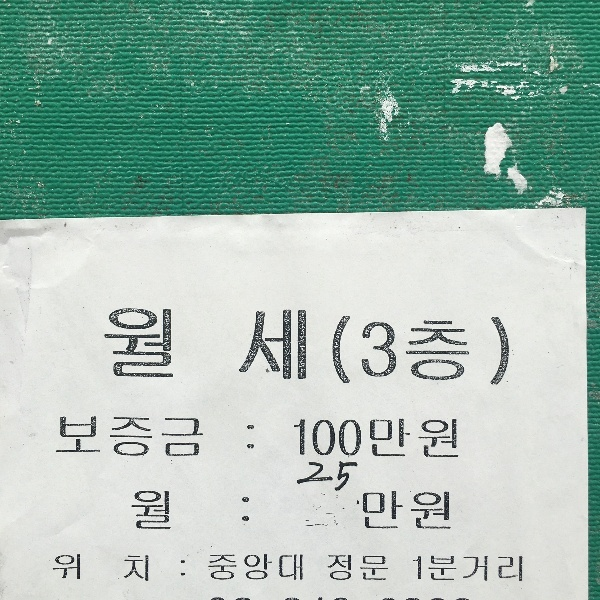text: (305, 298, 321, 399), (97, 298, 112, 399), (113, 298, 128, 399), (129, 298, 144, 399), (145, 298, 160, 399), (161, 298, 176, 399), (177, 298, 192, 399), (193, 298, 208, 399), (209, 298, 224, 399), (225, 298, 240, 399), (241, 298, 256, 399), (257, 298, 272, 399), (273, 298, 288, 399), (289, 298, 304, 399), (337, 306, 352, 404), (353, 306, 368, 404), (369, 306, 384, 404), (385, 306, 400, 404), (401, 306, 416, 404), (417, 306, 432, 404), (433, 306, 448, 404), (449, 306, 464, 404), (465, 306, 480, 404), (481, 306, 496, 404), (497, 306, 512, 404), (289, 412, 304, 474), (305, 412, 320, 474), (321, 412, 336, 474), (337, 412, 352, 474), (353, 412, 368, 474), (369, 412, 384, 474), (385, 412, 400, 474), (401, 412, 416, 474), (417, 412, 432, 474), (433, 412, 448, 474), (449, 412, 464, 474), (327, 306, 336, 404), (513, 306, 522, 404), (369, 484, 384, 542), (385, 484, 400, 542), (401, 484, 416, 542), (417, 484, 432, 542), (433, 484, 448, 542), (129, 481, 144, 539), (145, 481, 160, 539), (161, 481, 176, 539), (177, 481, 192, 539), (193, 481, 208, 539), (209, 481, 224, 539), (225, 481, 240, 539), (241, 481, 256, 539), (65, 407, 80, 464), (81, 407, 96, 464), (97, 407, 112, 464), (113, 407, 128, 464), (129, 407, 144, 464), (145, 407, 160, 464), (161, 407, 176, 464), (177, 407, 192, 464), (193, 407, 208, 464), (209, 407, 224, 464), (225, 407, 240, 464), (241, 407, 256, 464), (49, 543, 64, 600), (65, 543, 80, 600), (81, 543, 96, 600), (97, 543, 112, 600), (113, 543, 128, 600), (129, 543, 144, 600), (145, 543, 160, 600), (161, 543, 176, 600), (50, 407, 64, 464), (513, 547, 529, 595), (177, 543, 190, 600), (417, 547, 432, 595), (433, 547, 448, 595), (449, 547, 464, 595), (465, 547, 480, 595), (481, 547, 496, 595), (497, 547, 512, 595), (209, 547, 224, 590), (225, 547, 240, 590), (241, 547, 256, 590), (257, 547, 272, 590), (273, 547, 288, 590), (289, 547, 304, 590), (337, 550, 352, 588), (353, 550, 368, 588), (369, 550, 384, 588), (449, 484, 458, 542), (305, 461, 320, 493), (321, 461, 336, 493), (337, 461, 352, 493), (360, 484, 368, 542), (465, 412, 472, 474), (385, 550, 396, 588), (326, 550, 336, 588), (353, 461, 364, 493), (411, 547, 416, 595), (297, 461, 304, 493), (305, 547, 310, 590), (204, 547, 208, 590), (257, 407, 260, 464), (95, 298, 96, 399), (287, 412, 288, 474), (257, 481, 258, 539)
